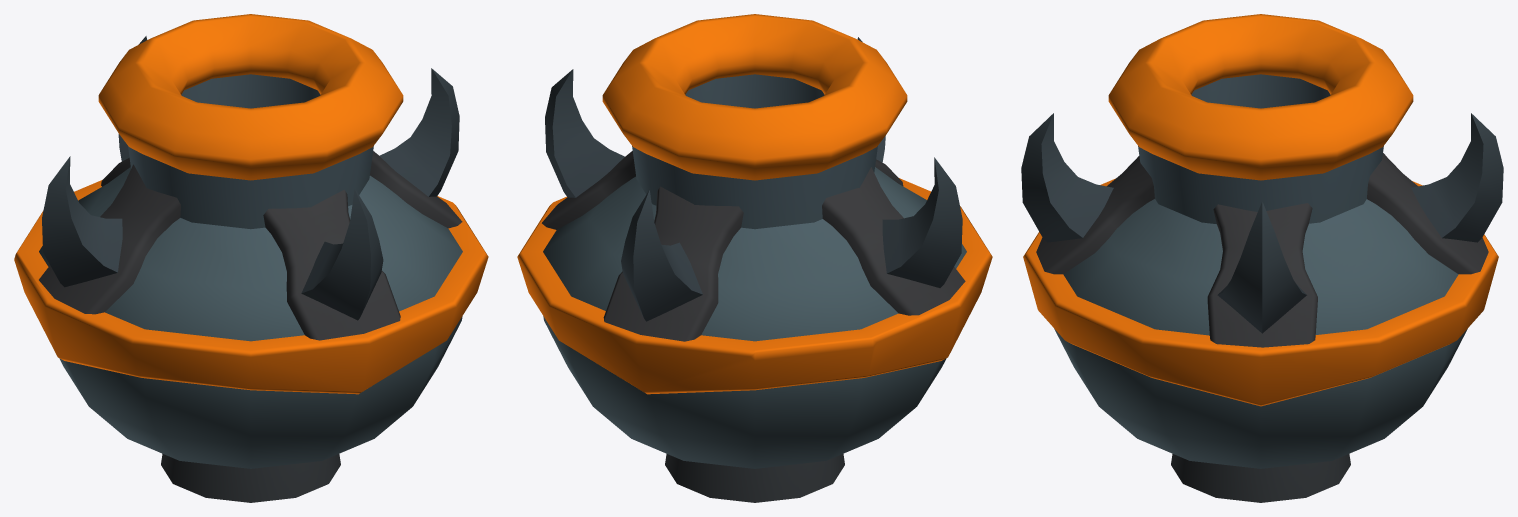
Rendered from inferno-vase-001.glb.
The picture shows the model from 3 angles, left to right: view 1: azimuth 30°, elevation 25°; view 2: azimuth 150°, elevation 25°; view 3: azimuth 270°, elevation 25°; orthographic projection.
Parts seen in each view (by area): view 1: Vase_001; view 2: Vase_001; view 3: Vase_001.
Part boxes in pixels (<box>): Vase_001: <box>14,14,488,502</box>; Vase_001: <box>517,14,992,502</box>; Vase_001: <box>1021,14,1503,502</box>.
Size of the model in its own units: 1.34 by 1.23 by 1.34.
2 materials, 2 textured.
